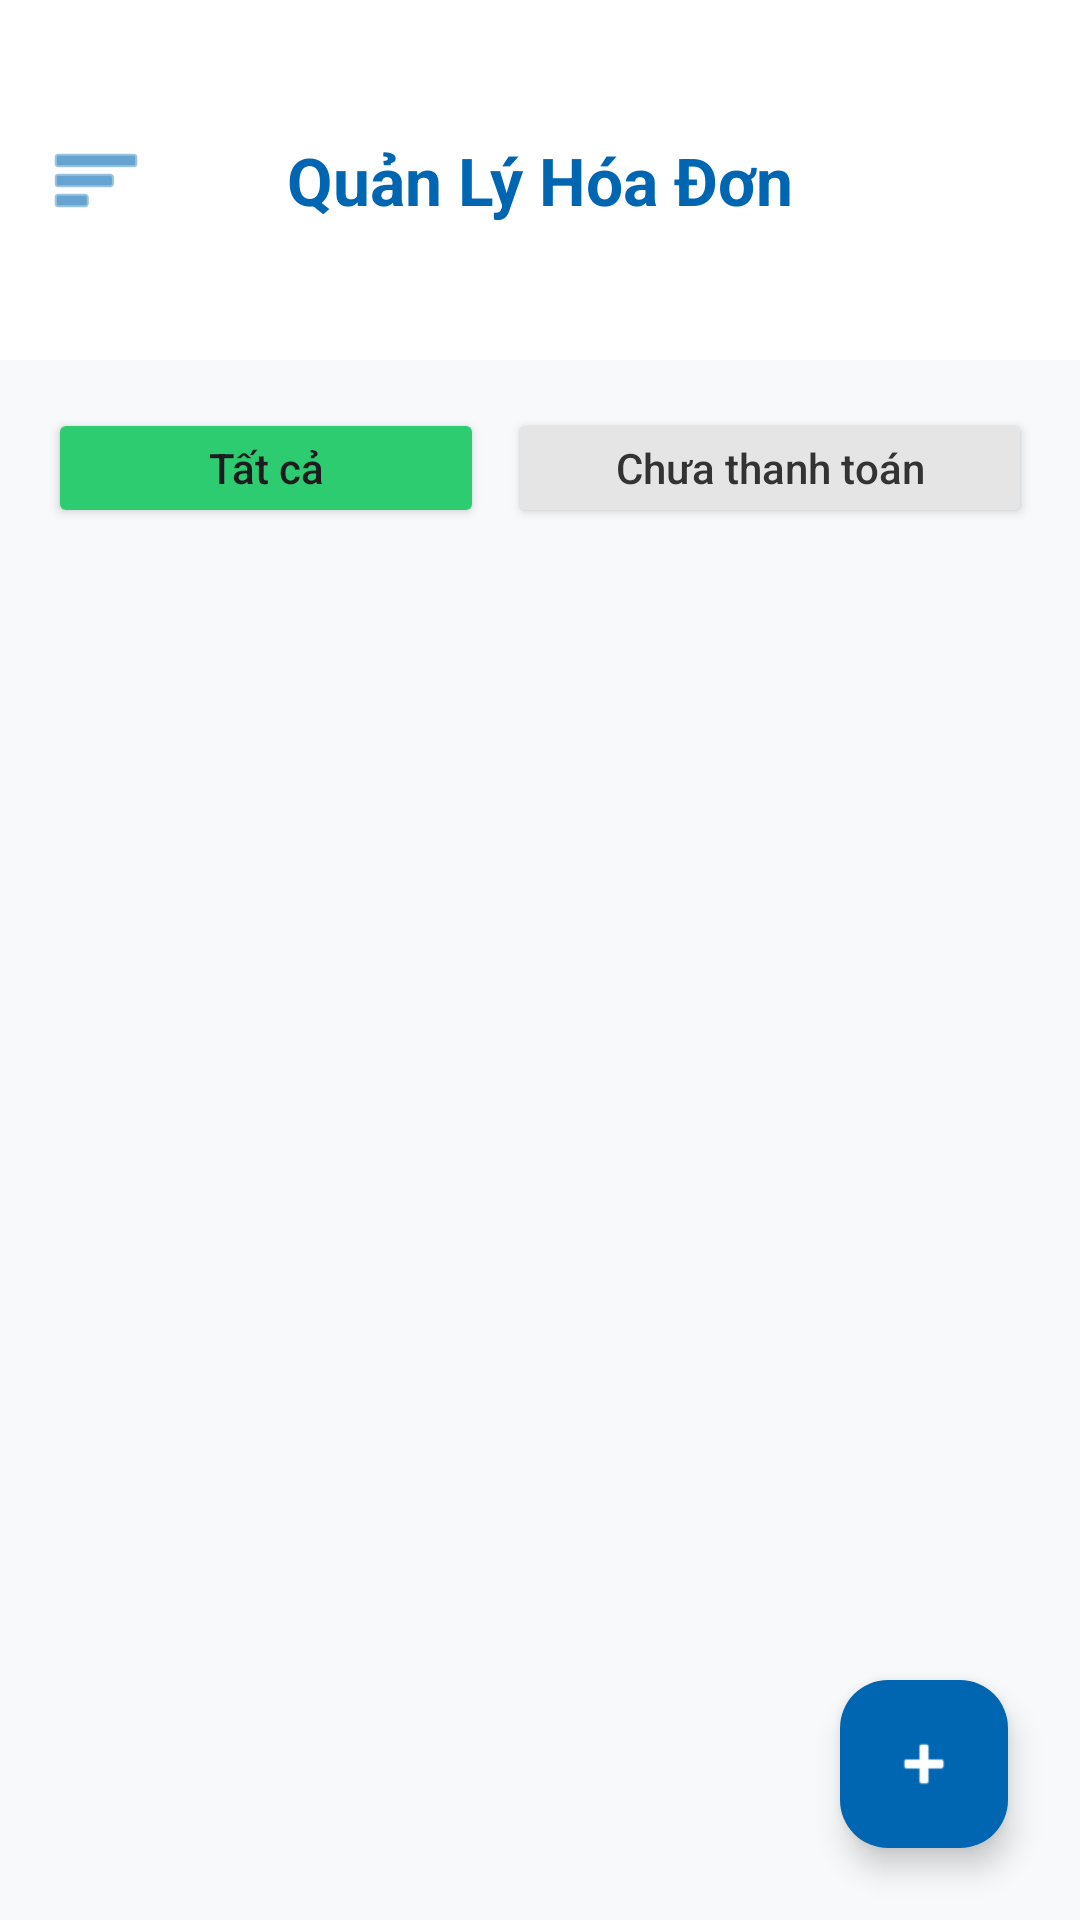

Where to tap for icons on this 1080px x 1920px app screen, as [x,y]:
add: [924,1764]
sort by size: [96,180]
